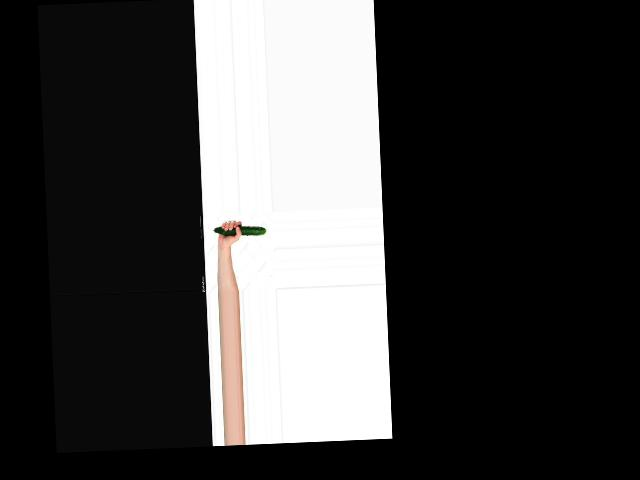cucumber: (212, 224, 265, 237)
